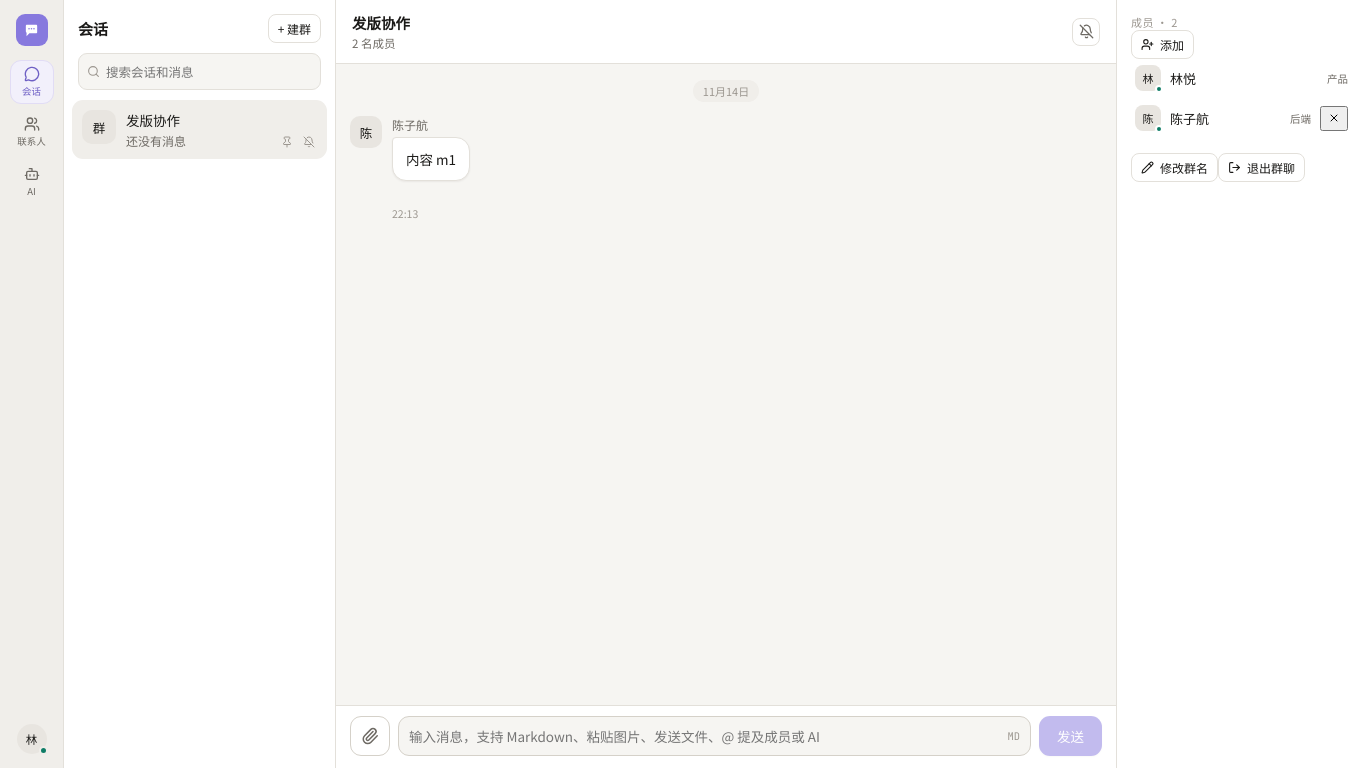
切离聊天详情后收到的新消息（issue #20） › 人在联系人页时不上报已读，未读徽标照常增加
This screenshot has width=1366, height=768.
What coordinates should you click on to do the following:
click the button "联系人"
I would click on:
 (32, 132)
Its box is [10, 110, 54, 154].
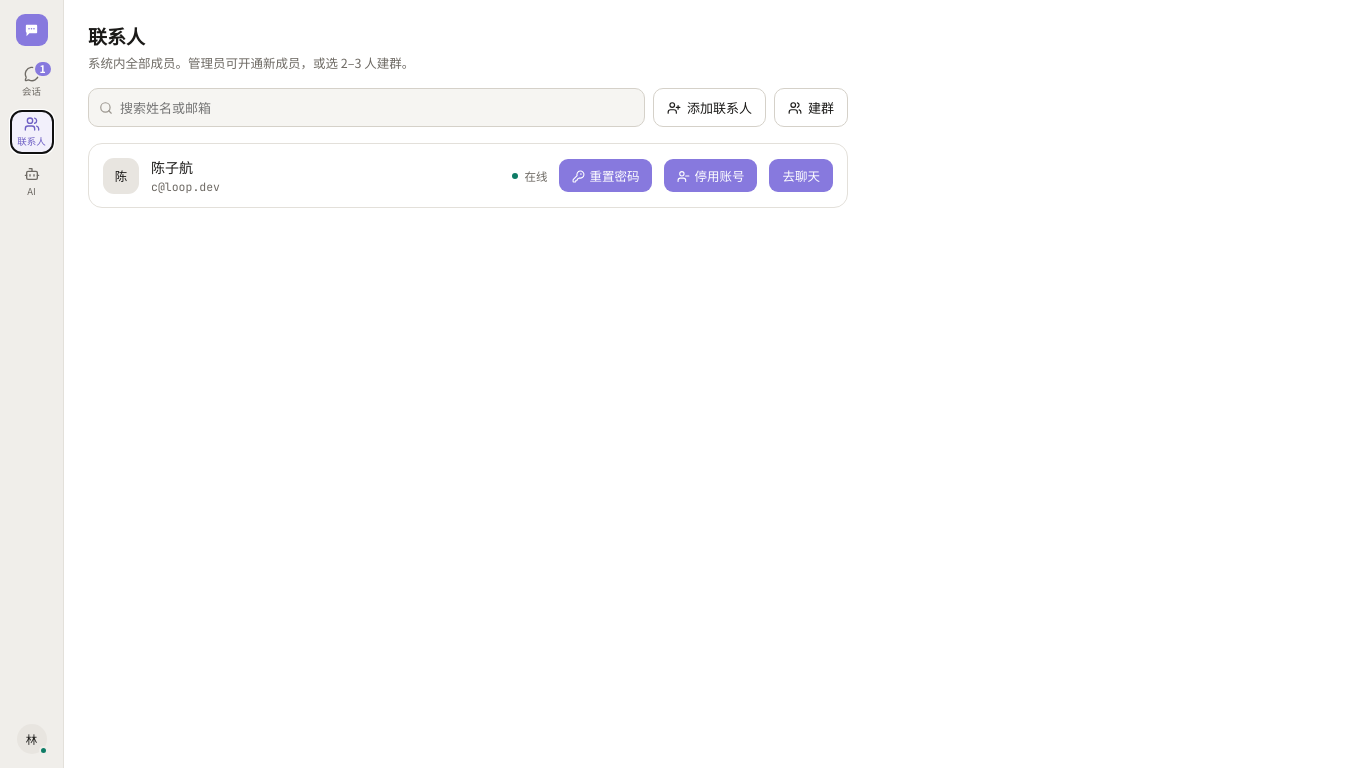
Expected: the text named "1 条未读" is shown, [32, 60, 53, 78]
Expected: the field with placeholder "搜索姓名或邮箱" is shown, [88, 88, 645, 127]
